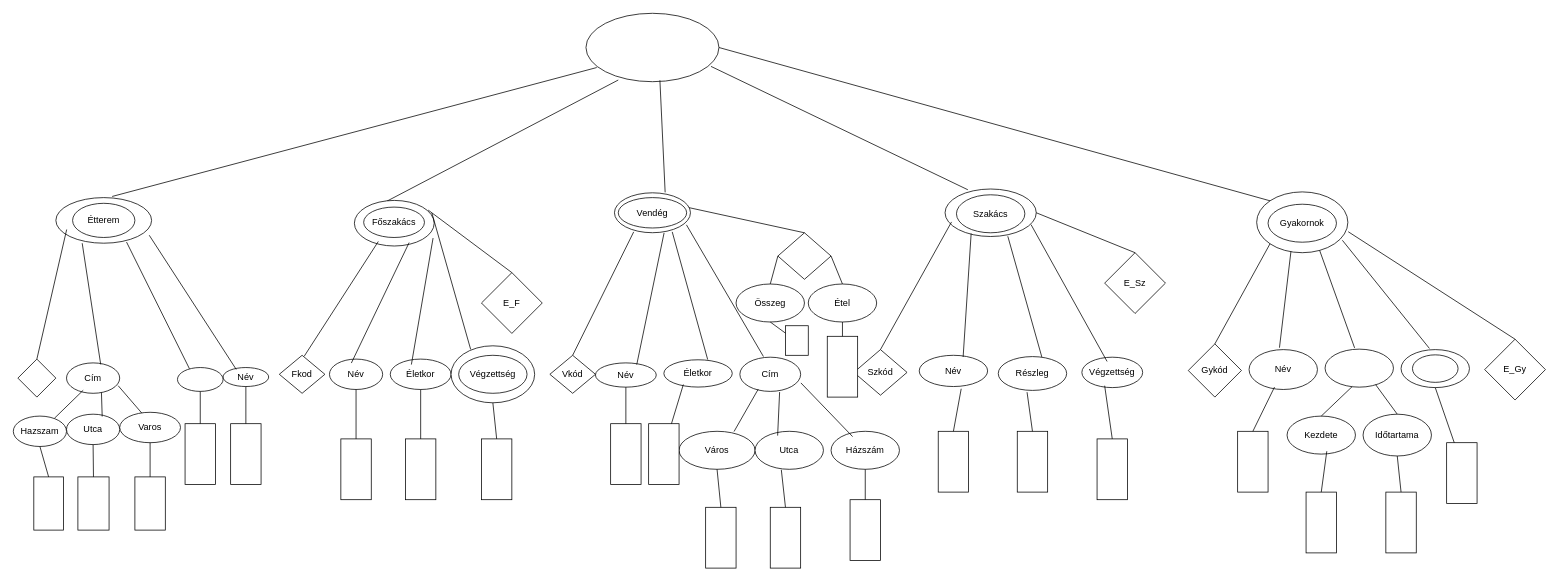
Image size: 1559x581. Some labels were removed from this diagram. The shapes that lost their labels are listed below. From the top down, each one's box as (x1, y1, x2, y2) in pixels, then its label:
(585, 13, 719, 82): Vendéglátás
(777, 232, 831, 279): Rendelés
(17, 358, 56, 397): Ekod
(177, 367, 223, 391): Csillag
(1324, 348, 1393, 387): Gyakorlat
(1412, 354, 1458, 382): Műszak
